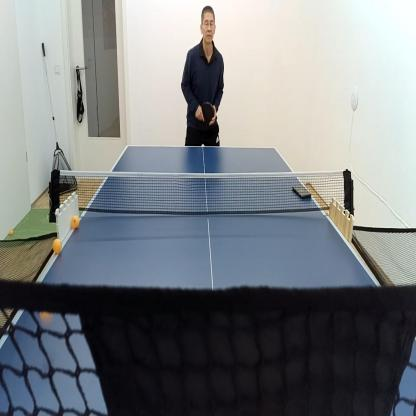Ball: (72, 215, 79, 230), (54, 241, 62, 253), (42, 313, 53, 321), (9, 229, 14, 234)
